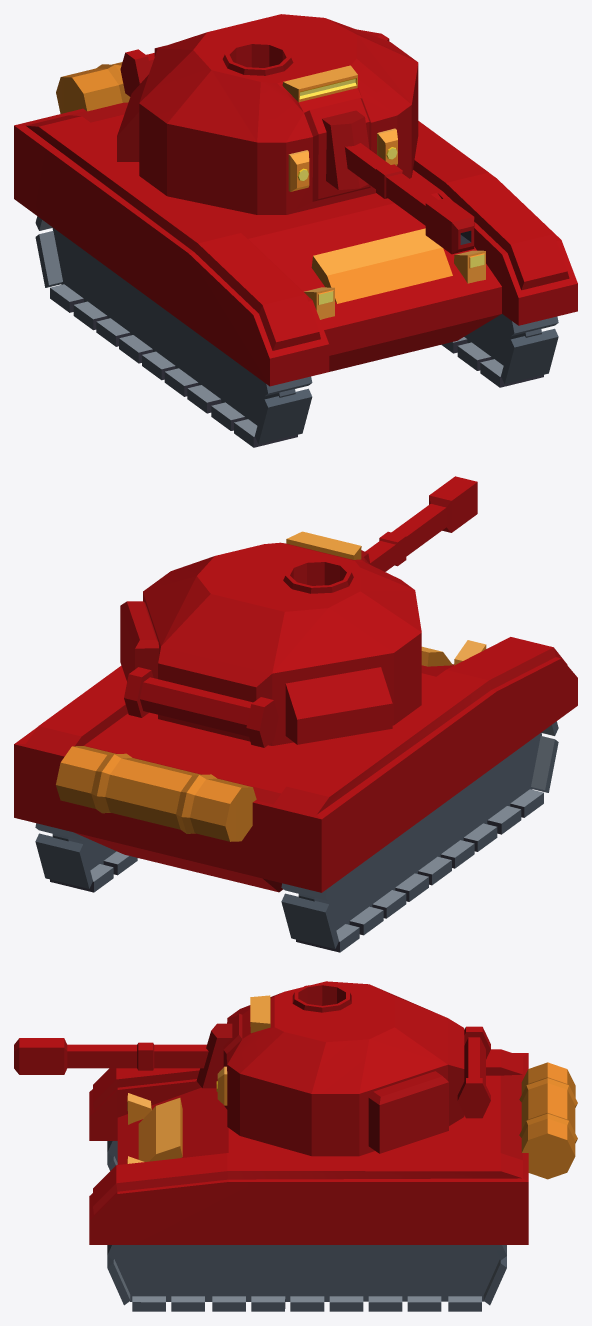
File: Tank_Red.fbx
3 renders of one model, top to bottom at view 1: azimuth 30°, elevation 25°; view 2: azimuth 150°, elevation 25°; view 3: azimuth 270°, elevation 25°, orthographic. The views are drawn at different scales.
Parts seen in each view (by area): view 1: Tank_Red, Top, Tie_R, Barrel, Tie_L, Back; view 2: Tank_Red, Top, Tie_R, Back, Barrel, Tie_L; view 3: Tank_Red, Top, Tie_L, Barrel, Back.
Boxes of the visible parts, x1,y1,x2,y2 form: Tank_Red: [14, 102, 577, 386]; Top: [117, 14, 418, 214]; Tie_R: [35, 216, 312, 447]; Barrel: [322, 110, 474, 254]; Tie_L: [441, 314, 558, 387]; Back: [56, 62, 130, 113]; Tank_Red: [14, 637, 577, 892]; Top: [120, 531, 421, 747]; Tie_R: [281, 721, 558, 952]; Back: [56, 746, 256, 841]; Barrel: [361, 476, 477, 571]; Tie_L: [35, 823, 137, 892]; Tank_Red: [89, 1049, 528, 1244]; Top: [216, 981, 490, 1156]; Tie_L: [107, 1245, 506, 1311]; Barrel: [14, 1023, 232, 1088]; Back: [519, 1062, 577, 1179].
Size of the model in its own units: 179 by 157 by 331.
